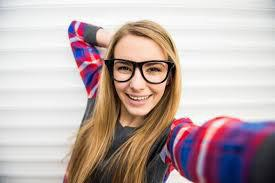face: (114, 36, 165, 115)
